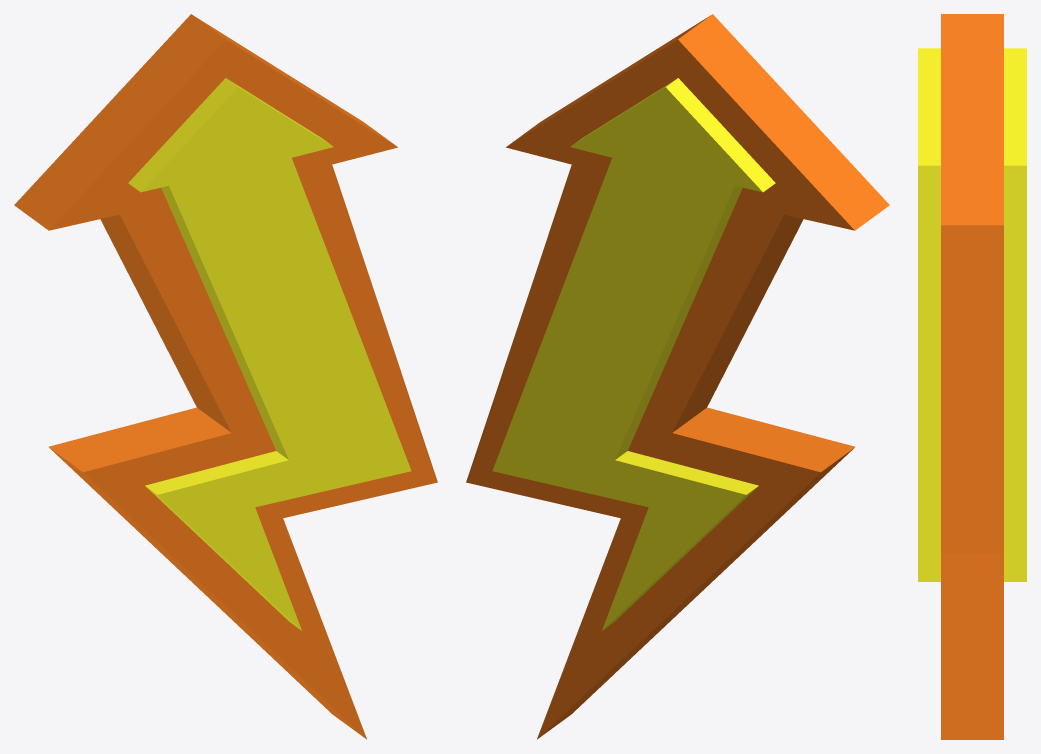
Rendered from TurboPickup.fbx.
3 views of the same model, side by side, from view 1: azimuth 30°, elevation 25°; view 2: azimuth 150°, elevation 25°; view 3: azimuth 270°, elevation 25° (orthographic). The views are drawn at different scales.
Parts seen in each view (by area): view 1: Plane; view 2: Plane; view 3: Plane.
Part boxes in pixels (x1,y1,x2,y2): Plane: [14, 14, 437, 739]; Plane: [466, 14, 889, 739]; Plane: [918, 14, 1026, 739].
Size of the model in its own units: 285 by 514 by 76.44.
